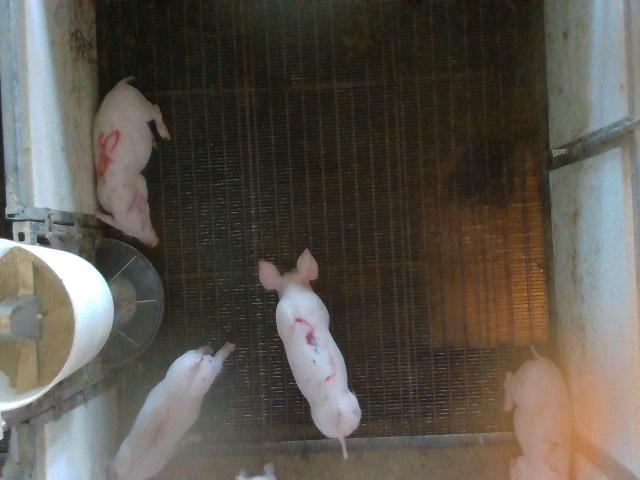pig-1: (111, 342, 234, 479)
pig-2: (504, 351, 568, 478)
pig-3: (260, 249, 361, 458)
pig-5: (94, 76, 171, 246)
